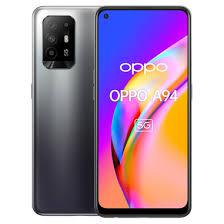Smartphone: (100, 9, 190, 214), (32, 4, 98, 215)
